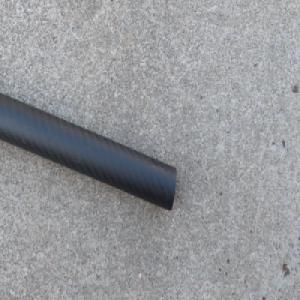LuggagePart: (0, 92, 177, 213)
